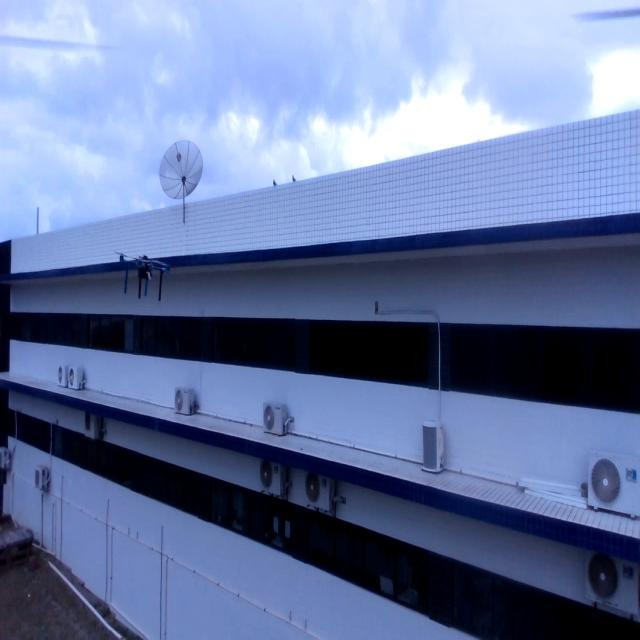-uav-: (114, 249, 172, 308)
